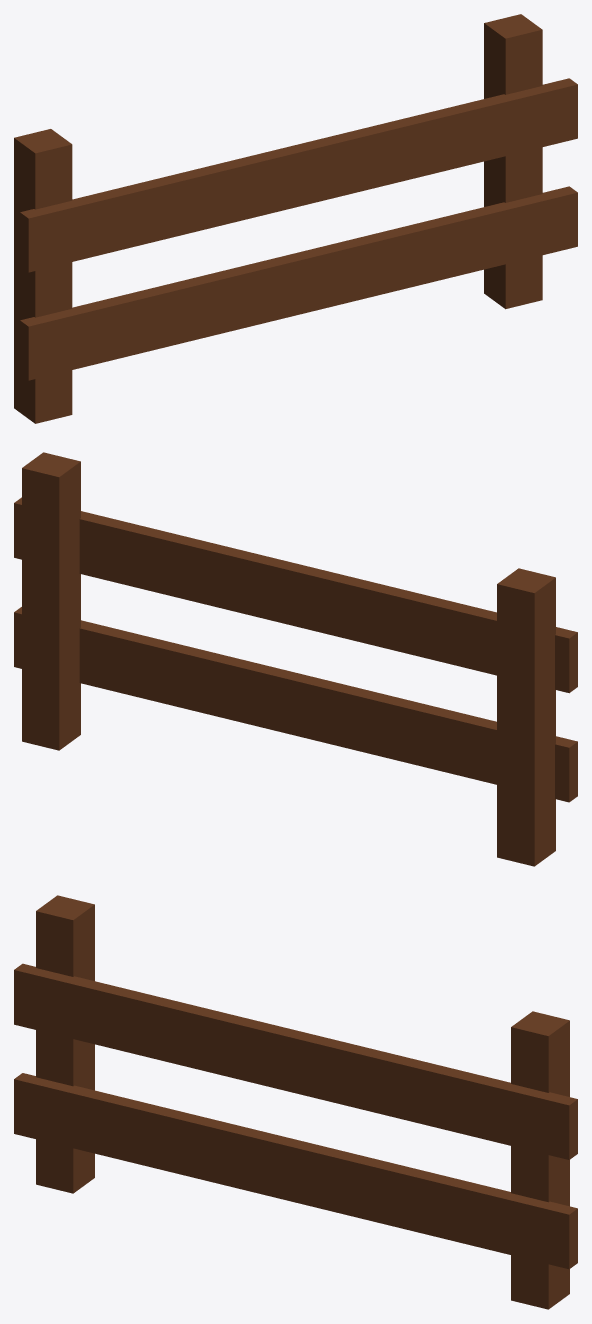
The model's file is Fence_1.fbx.
The picture shows the model from 3 angles, top to bottom: view 1: azimuth 30°, elevation 25°; view 2: azimuth 150°, elevation 25°; view 3: azimuth 330°, elevation 25°; orthographic projection.
Visible parts, largest first — view 1: Fence_1; view 2: Fence_1; view 3: Fence_1.
Boxes of the visible parts, x1=… form: Fence_1: x1=14, y1=14, x2=577, y2=423; Fence_1: x1=14, y1=452, x2=577, y2=866; Fence_1: x1=14, y1=895, x2=577, y2=1309.
Size of the model in its own units: 227 by 107 by 20.6.
